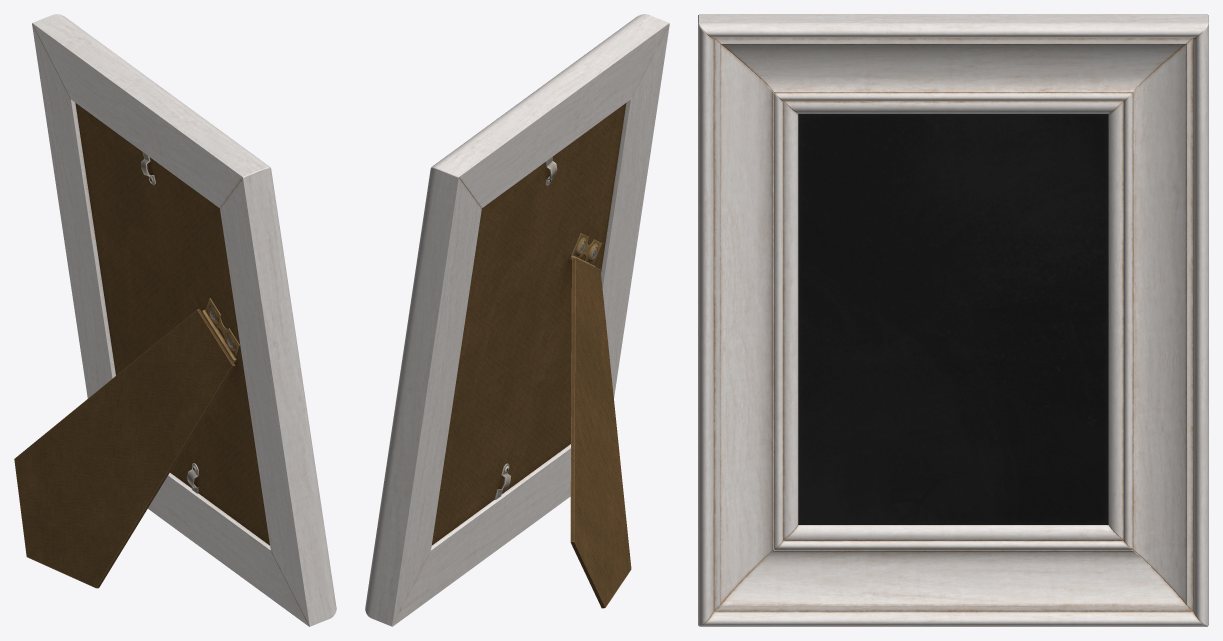
File: standing_picture_frame_02_4k.gltf
3 views of the same model, side by side, from view 1: azimuth 30°, elevation 25°; view 2: azimuth 150°, elevation 25°; view 3: azimuth 270°, elevation 25° (orthographic). The views are drawn at different scales.
Parts seen in each view (by area): view 1: standing_picture_frame_02; view 2: standing_picture_frame_02; view 3: standing_picture_frame_02.
Boxes of the visible parts, <box> form: standing_picture_frame_02: <box>14,14,336,626</box>; standing_picture_frame_02: <box>365,14,669,626</box>; standing_picture_frame_02: <box>698,14,1208,626</box>.
Bounding box in the file's own units: 0.1023 × 0.2664 × 0.2169.
Materials: 3 (3 with a texture image).
